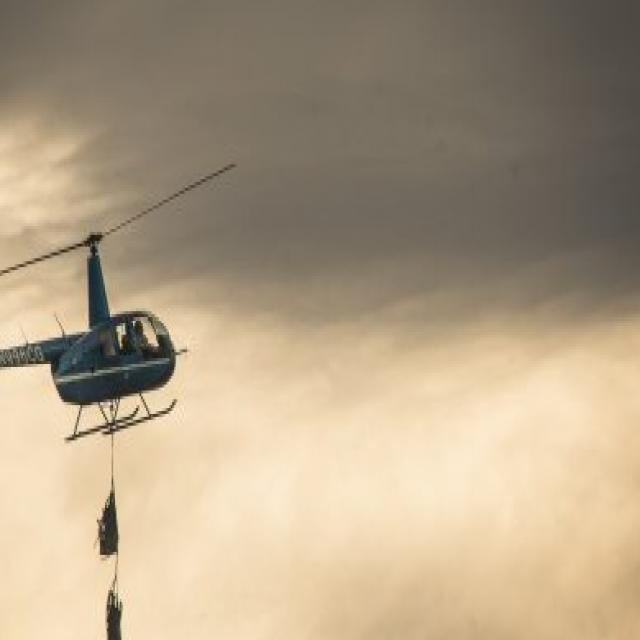helicopter: (1, 233, 203, 435)
